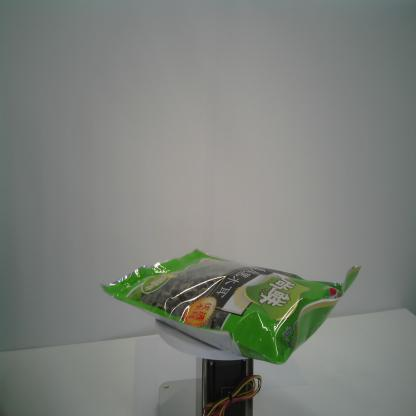Dried Food: (99, 247, 362, 366)
